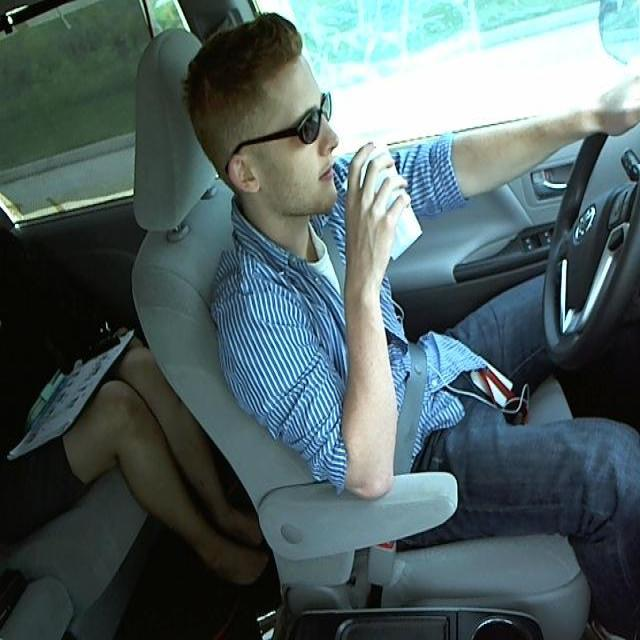Seatbelt: (180, 4, 436, 328)
